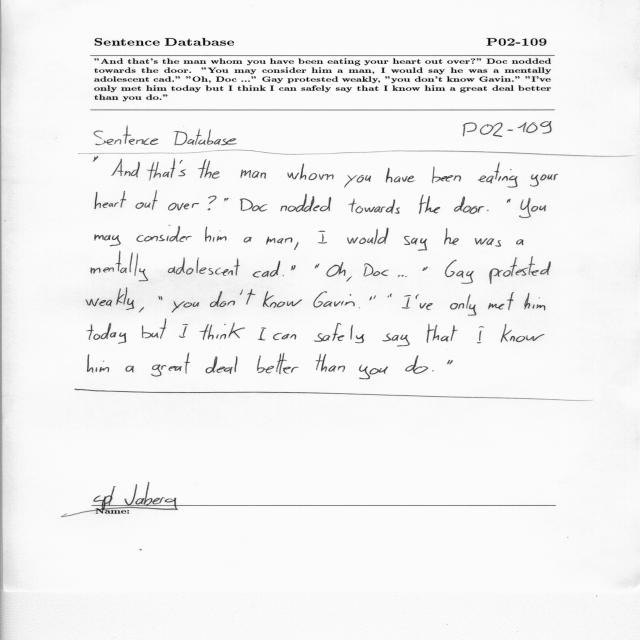word: (342, 151, 627, 188), (198, 150, 273, 179), (489, 256, 551, 284), (91, 251, 148, 281), (463, 121, 552, 137), (168, 257, 240, 276), (86, 288, 134, 310), (314, 323, 364, 343), (96, 139, 237, 146), (281, 193, 332, 212), (136, 225, 192, 242), (152, 353, 191, 376), (163, 152, 197, 178), (257, 353, 299, 374), (87, 323, 126, 344), (210, 289, 255, 307), (200, 322, 245, 340), (501, 324, 545, 342), (287, 154, 317, 180), (348, 199, 400, 214), (347, 228, 389, 245), (313, 291, 355, 308), (445, 260, 474, 284), (94, 126, 131, 144), (263, 291, 302, 308), (174, 129, 214, 145), (426, 324, 458, 343), (319, 153, 341, 180), (206, 356, 238, 374), (450, 294, 476, 316), (95, 191, 126, 209), (454, 196, 484, 214), (519, 198, 546, 218), (315, 354, 345, 372), (124, 153, 146, 177), (142, 319, 167, 339), (253, 261, 281, 278), (488, 292, 514, 310), (405, 355, 428, 374), (136, 191, 158, 210), (359, 365, 388, 379), (419, 195, 440, 214), (88, 354, 109, 373), (147, 153, 161, 181), (382, 334, 410, 347), (524, 293, 545, 310), (240, 199, 267, 212), (364, 263, 389, 277), (404, 236, 427, 251), (205, 227, 227, 242), (172, 301, 199, 313), (95, 235, 121, 247), (326, 262, 346, 277), (111, 153, 124, 176), (416, 294, 433, 310), (444, 228, 459, 245), (168, 203, 199, 211), (475, 238, 501, 247), (266, 237, 292, 245), (88, 153, 106, 162), (273, 333, 296, 340), (208, 196, 217, 211), (402, 295, 411, 309), (179, 324, 188, 338), (477, 327, 484, 344), (318, 231, 327, 243), (258, 328, 266, 341), (125, 366, 134, 373), (274, 153, 304, 155), (516, 239, 524, 245), (244, 237, 252, 242), (346, 276, 352, 282), (369, 296, 376, 301), (294, 242, 298, 250), (554, 174, 559, 180), (139, 307, 144, 313), (291, 265, 296, 270), (422, 267, 428, 271), (447, 360, 453, 364), (507, 198, 511, 203), (315, 264, 319, 269), (387, 294, 392, 298), (398, 275, 407, 277), (159, 296, 163, 300), (224, 198, 229, 201), (80, 153, 85, 154), (432, 371, 434, 372), (487, 210, 488, 211), (283, 275, 284, 276), (359, 308, 360, 309)
